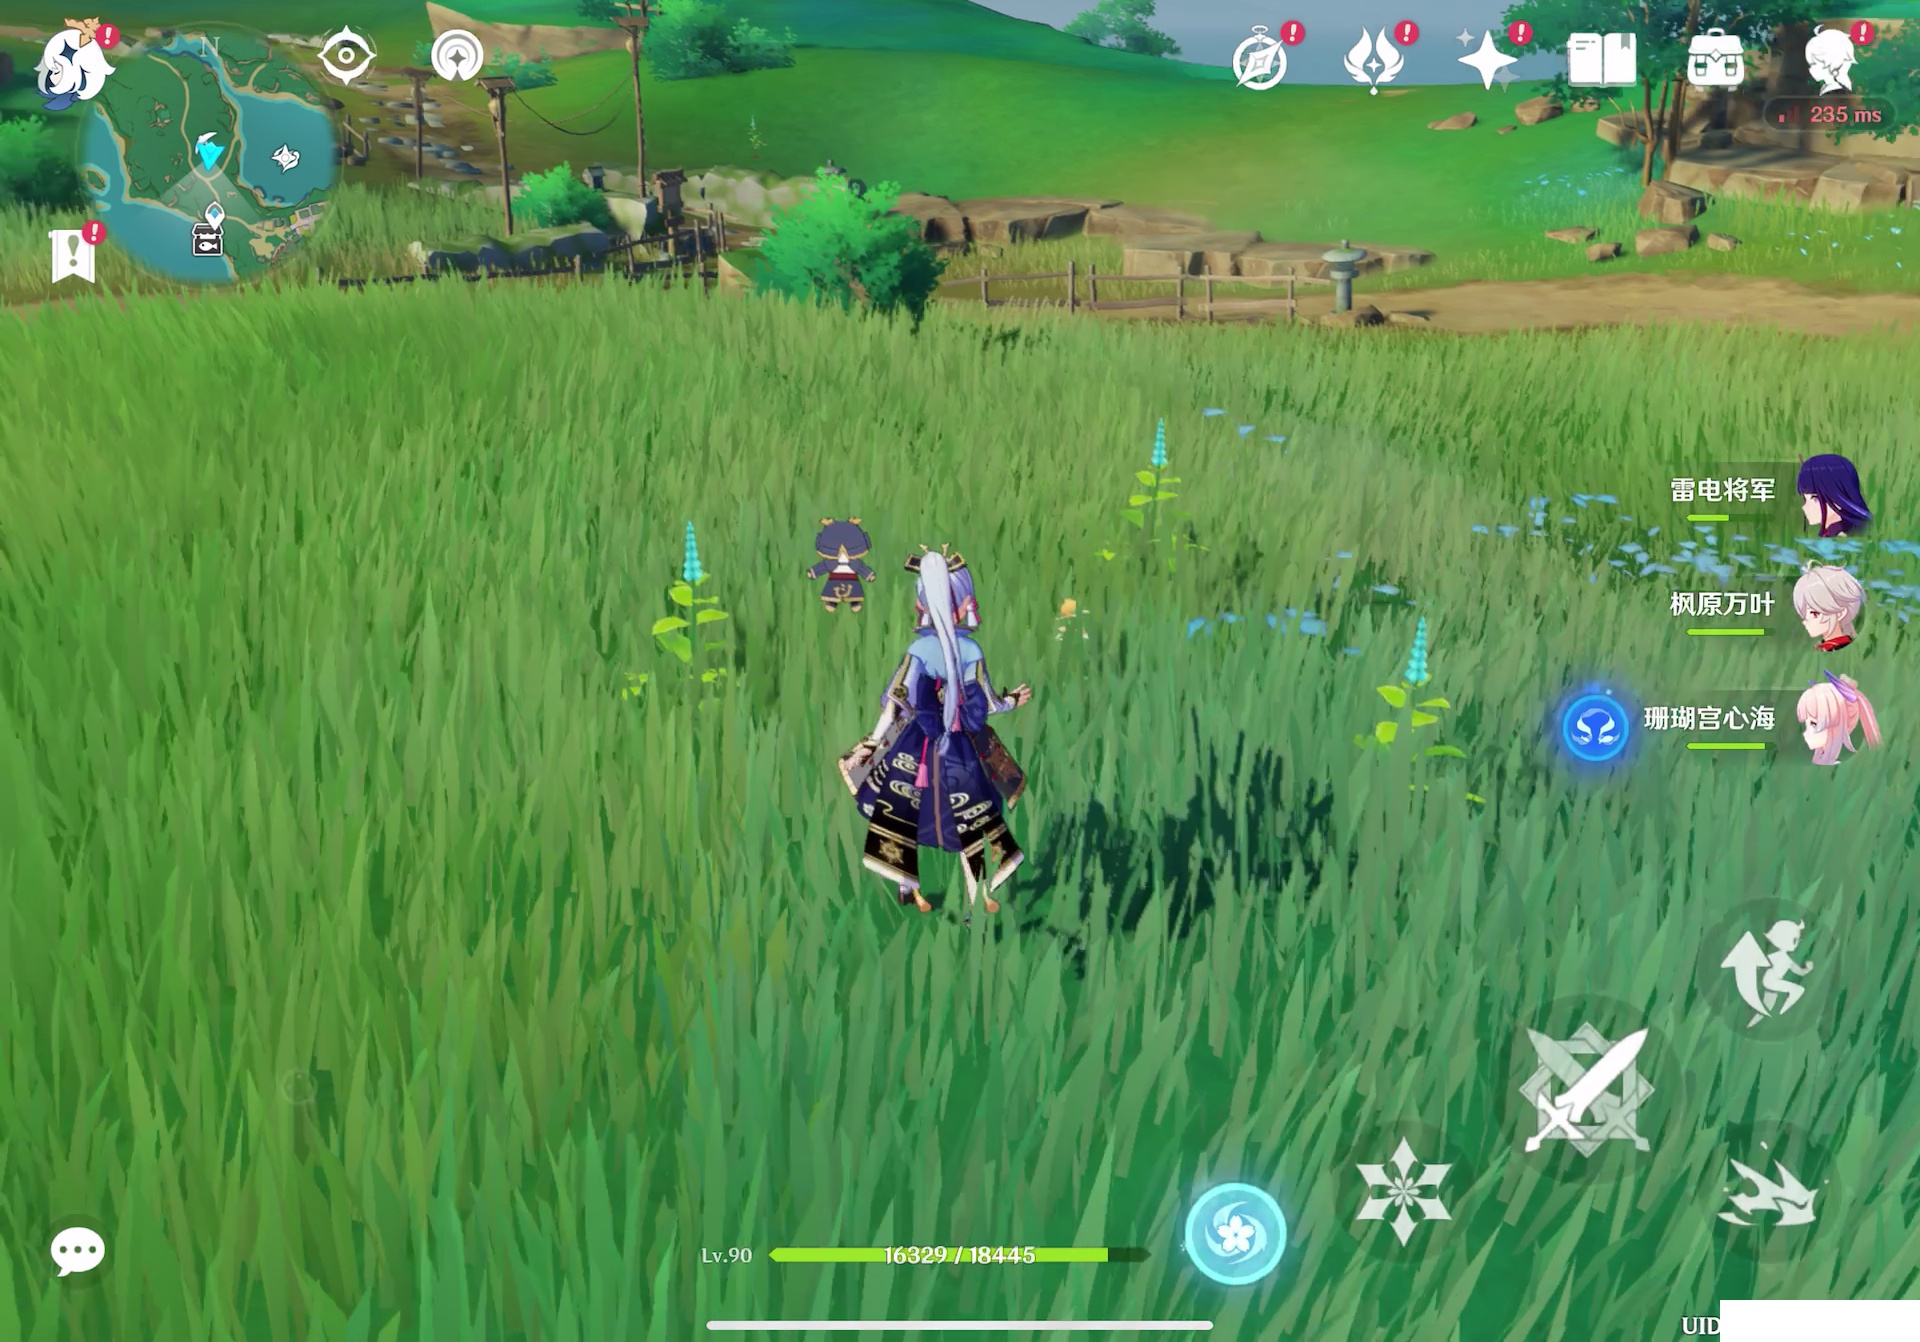没用的甜甜花: (1040, 591, 1102, 670)
没用的薄荷: (1345, 598, 1491, 831), (632, 518, 759, 710), (1099, 407, 1223, 581)
神里绫龟: (835, 531, 1049, 928)
